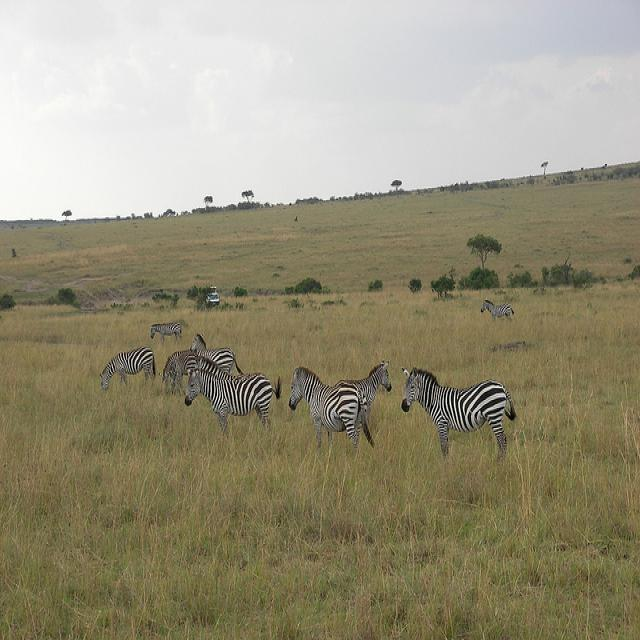Vehicle: (205, 286, 220, 304)
